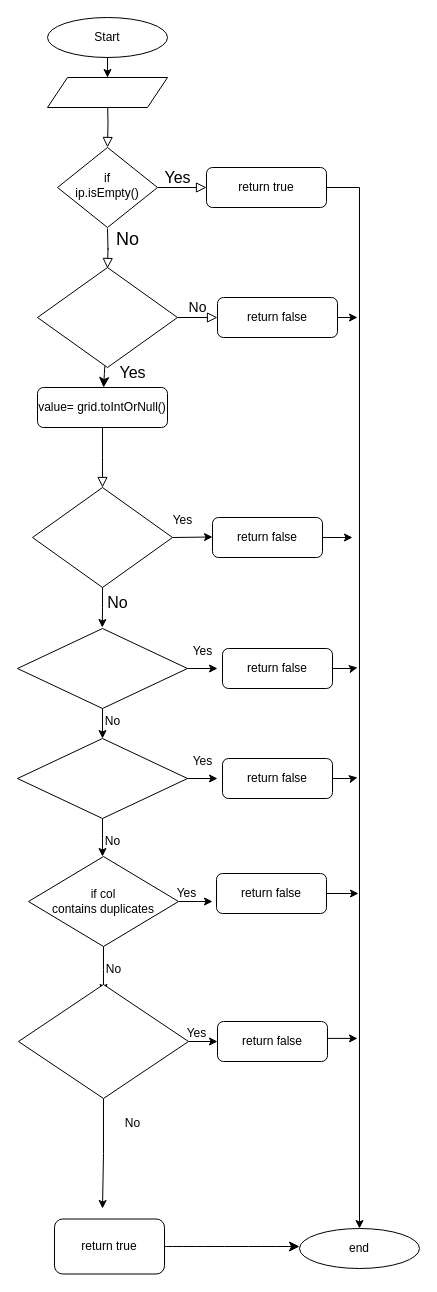
The diagram is 437 pixels wide and 1292 high, and some of its shapes have lost their labels. Each missing label, with the centre of its shape:
if gridValues < 1 or gridVales > grid.size: point 103,1041
if numOfRows == numOfCols: point 107,317
if row contains duplicates: point 102,778
if subgrid contains duplicates: point 102,668
if value == null: point 102,537
input grid: point 107,92
